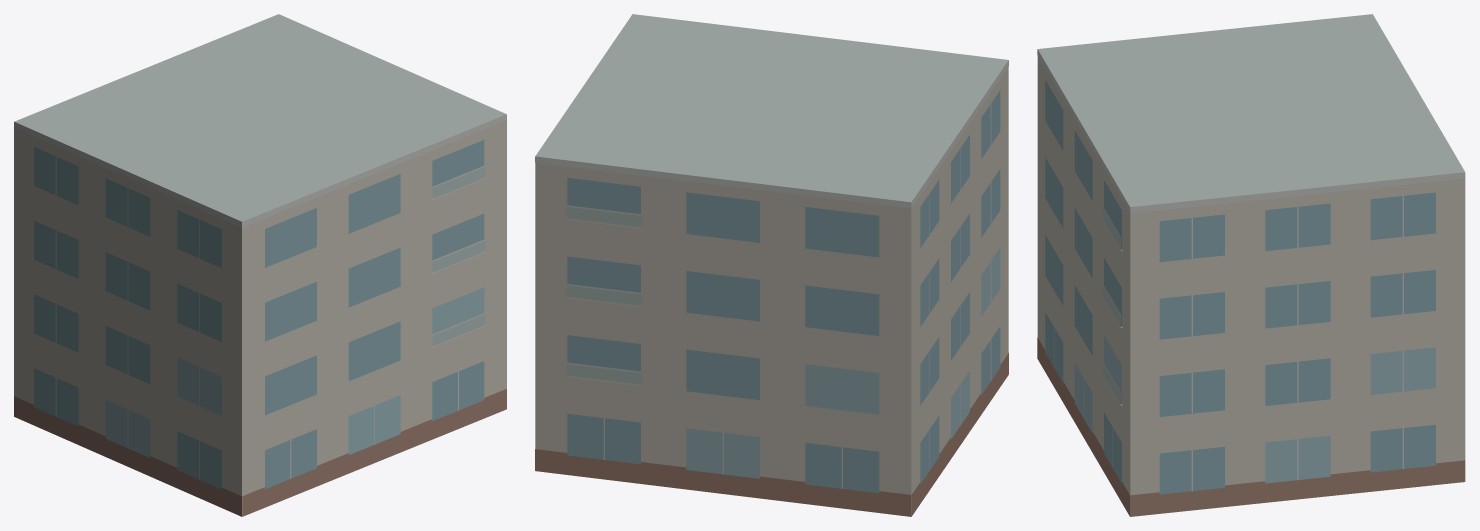
File: residential-1c83a619-905c-4640-a5be-35a58df3f972.glb
3 views of the same model, side by side, from view 1: azimuth 30°, elevation 25°; view 2: azimuth 150°, elevation 25°; view 3: azimuth 270°, elevation 25° (orthographic). The views are drawn at different scales.
Visible parts, largest first — view 1: residential-1c83a619-905c-4640-a5be-35a58df3f972.tmp; view 2: residential-1c83a619-905c-4640-a5be-35a58df3f972.tmp; view 3: residential-1c83a619-905c-4640-a5be-35a58df3f972.tmp.
Part boxes in pixels (x1,y1,x2,y2): residential-1c83a619-905c-4640-a5be-35a58df3f972.tmp: [14, 14, 506, 516]; residential-1c83a619-905c-4640-a5be-35a58df3f972.tmp: [535, 14, 1008, 516]; residential-1c83a619-905c-4640-a5be-35a58df3f972.tmp: [1037, 14, 1465, 516].
Size of the model in its own units: 16.33 by 12.2 by 15.28.
